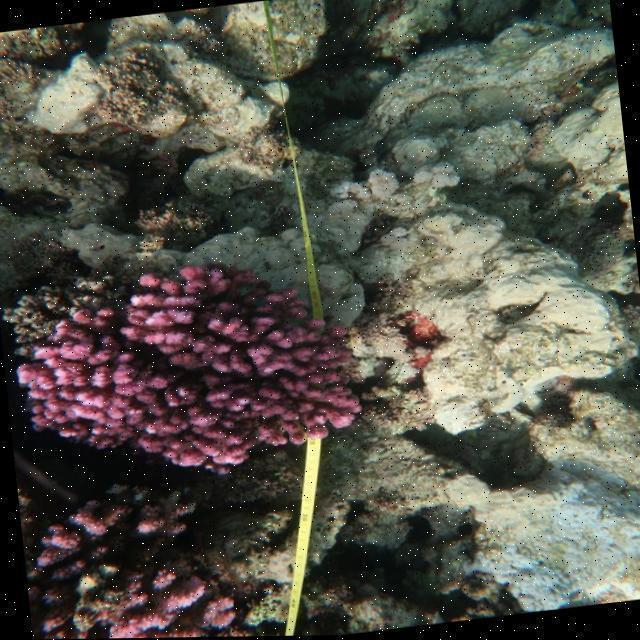Healthy Coral: (5, 318, 362, 497), (124, 248, 311, 362)
